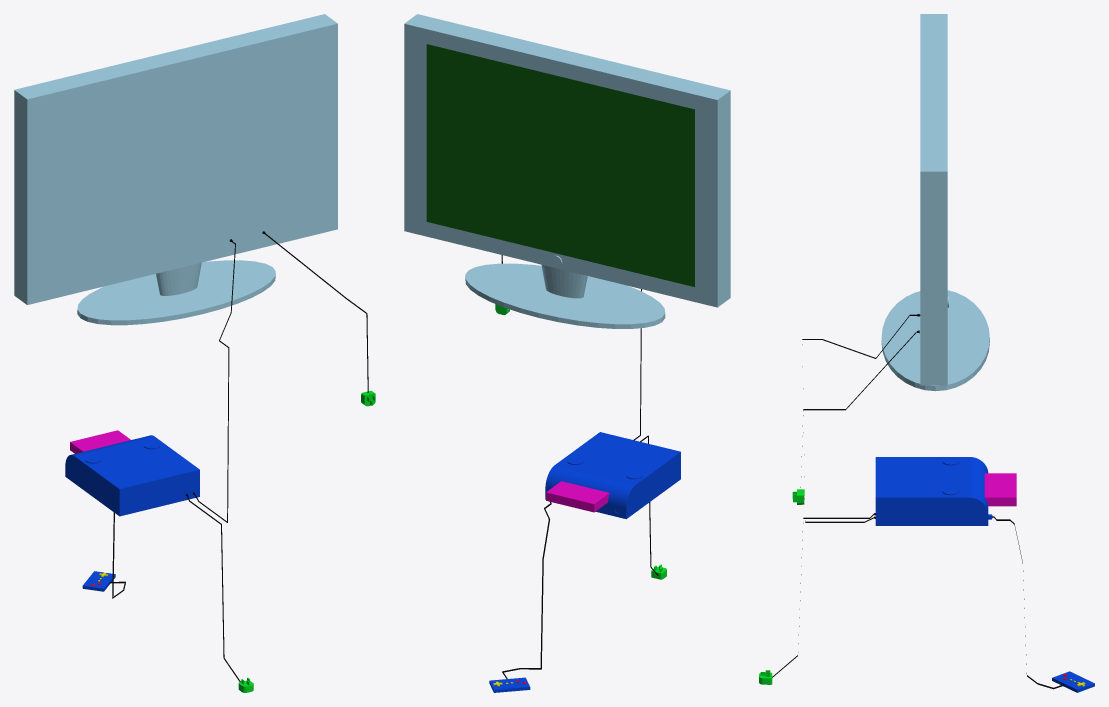
Rendered from TV_And_Console.fbx.
The picture shows the model from 3 angles, left to right: view 1: azimuth 30°, elevation 25°; view 2: azimuth 150°, elevation 25°; view 3: azimuth 270°, elevation 25°; orthographic projection. The views are drawn at different scales.
Parts seen in each view (by area): view 1: Cube.003; view 2: Cube.003; view 3: Cube.003.
Boxes of the visible parts, left/top/right/bottom form: Cube.003: left=14, top=14, right=375, bottom=692; Cube.003: left=404, top=14, right=730, bottom=692; Cube.003: left=759, top=14, right=1094, bottom=692.
Size of the model in its own units: 380 by 670 by 342.
